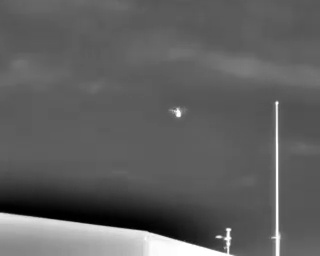HELICOPTER: (166, 102, 192, 122)
